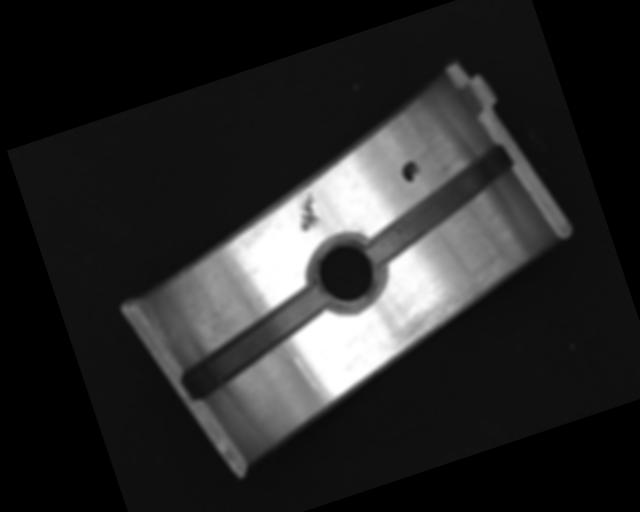blot: (398, 158, 422, 183)
bruise: (290, 191, 324, 233)
gap: (349, 142, 532, 268), (168, 284, 342, 402)
hole: (301, 231, 394, 320)
nick: (295, 350, 336, 410)
scratch: (369, 248, 531, 358)
